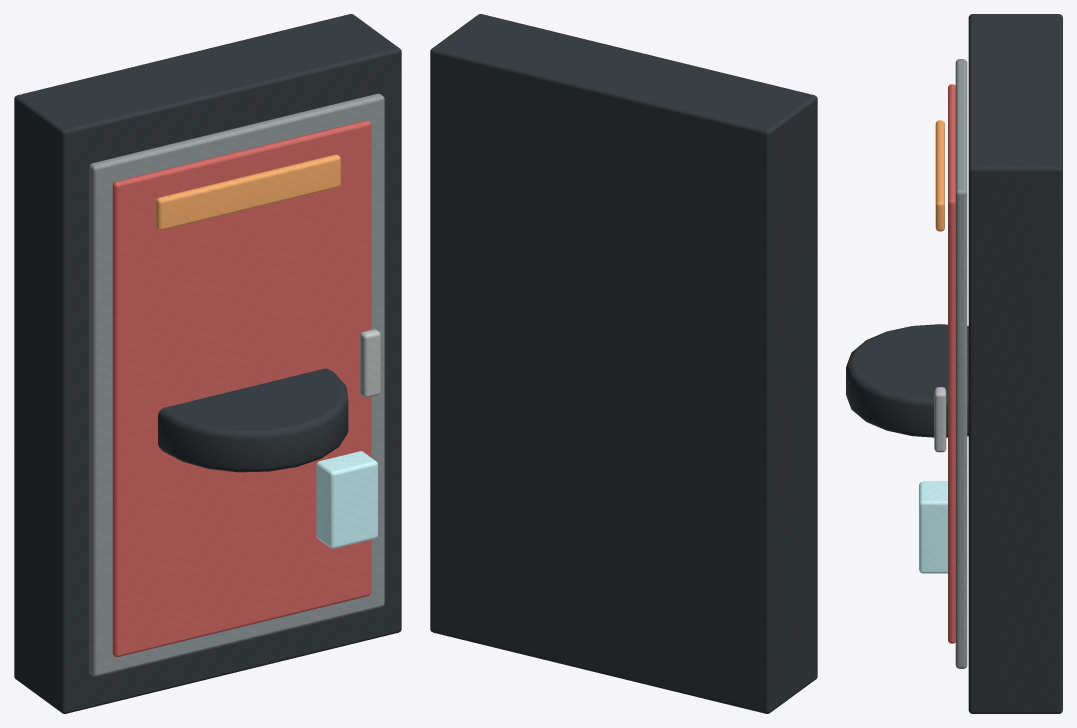
The model's file is WallHydrantCabinet.glb.
3 views of the same model, side by side, from view 1: azimuth 30°, elevation 25°; view 2: azimuth 150°, elevation 25°; view 3: azimuth 270°, elevation 25° (orthographic). The views are drawn at different scales.
Parts seen in each view (by area): view 1: WallHydrantCabinet_Mesh; view 2: WallHydrantCabinet_Mesh; view 3: WallHydrantCabinet_Mesh.
Part boxes in pixels (x1=…): WallHydrantCabinet_Mesh: x1=14, y1=14, x2=401, y2=713; WallHydrantCabinet_Mesh: x1=430, y1=14, x2=817, y2=713; WallHydrantCabinet_Mesh: x1=846, y1=14, x2=1062, y2=713.
Bounding box in the file's own units: 0.78 × 1.28 × 0.46.
Materials: 6 (6 with a texture image).
